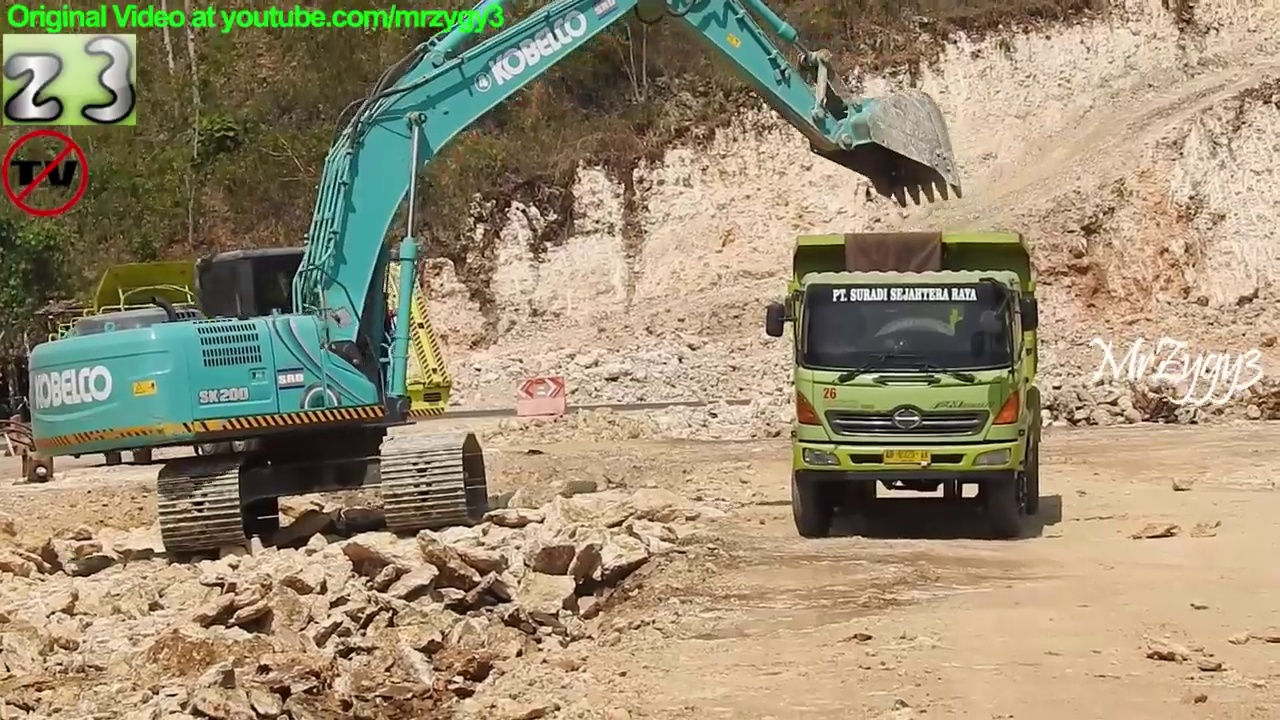excavator: (20, 1, 974, 562)
truck: (12, 247, 458, 468), (765, 230, 1044, 541)
